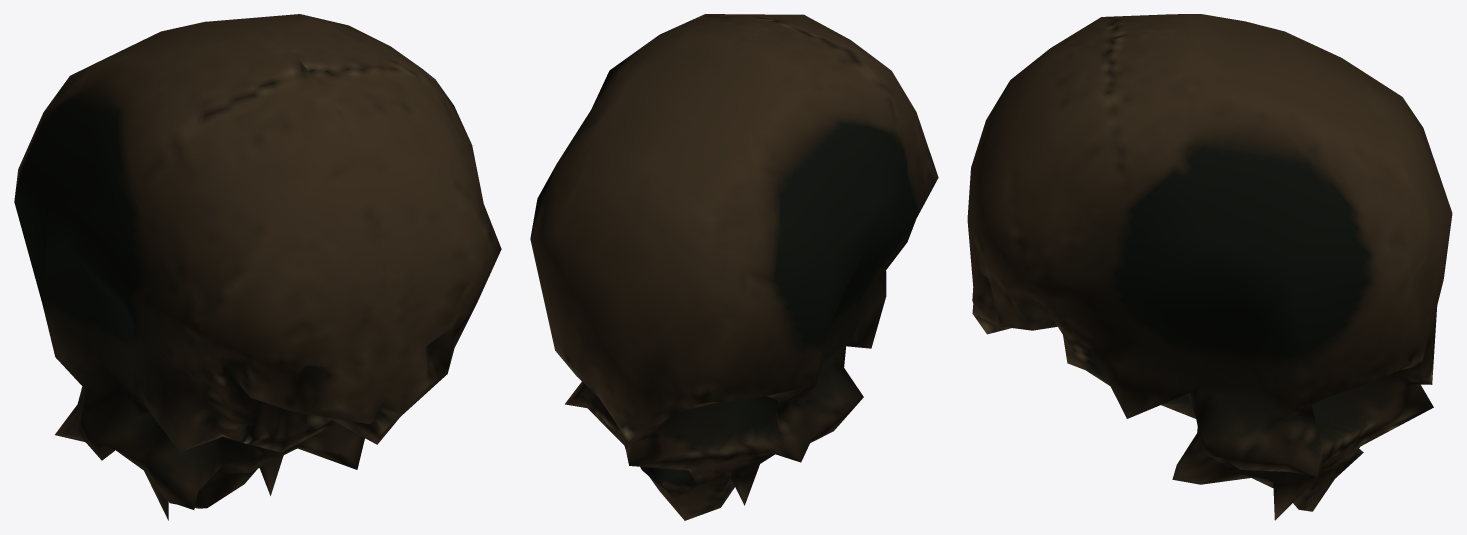
Rendered from boid2.obj.
3 renders of one model, left to right at view 1: azimuth 30°, elevation 25°; view 2: azimuth 150°, elevation 25°; view 3: azimuth 270°, elevation 25°, orthographic. The views are drawn at different scales.
Visible parts, largest first — view 1: boid2; view 2: boid2; view 3: boid2.
Part boxes in pixels (x1,y1,x2,y2): boid2: [14, 14, 501, 520]; boid2: [530, 14, 938, 520]; boid2: [967, 14, 1452, 520].
Size of the model in its own units: 0.7868 by 1.09 by 0.9987.
